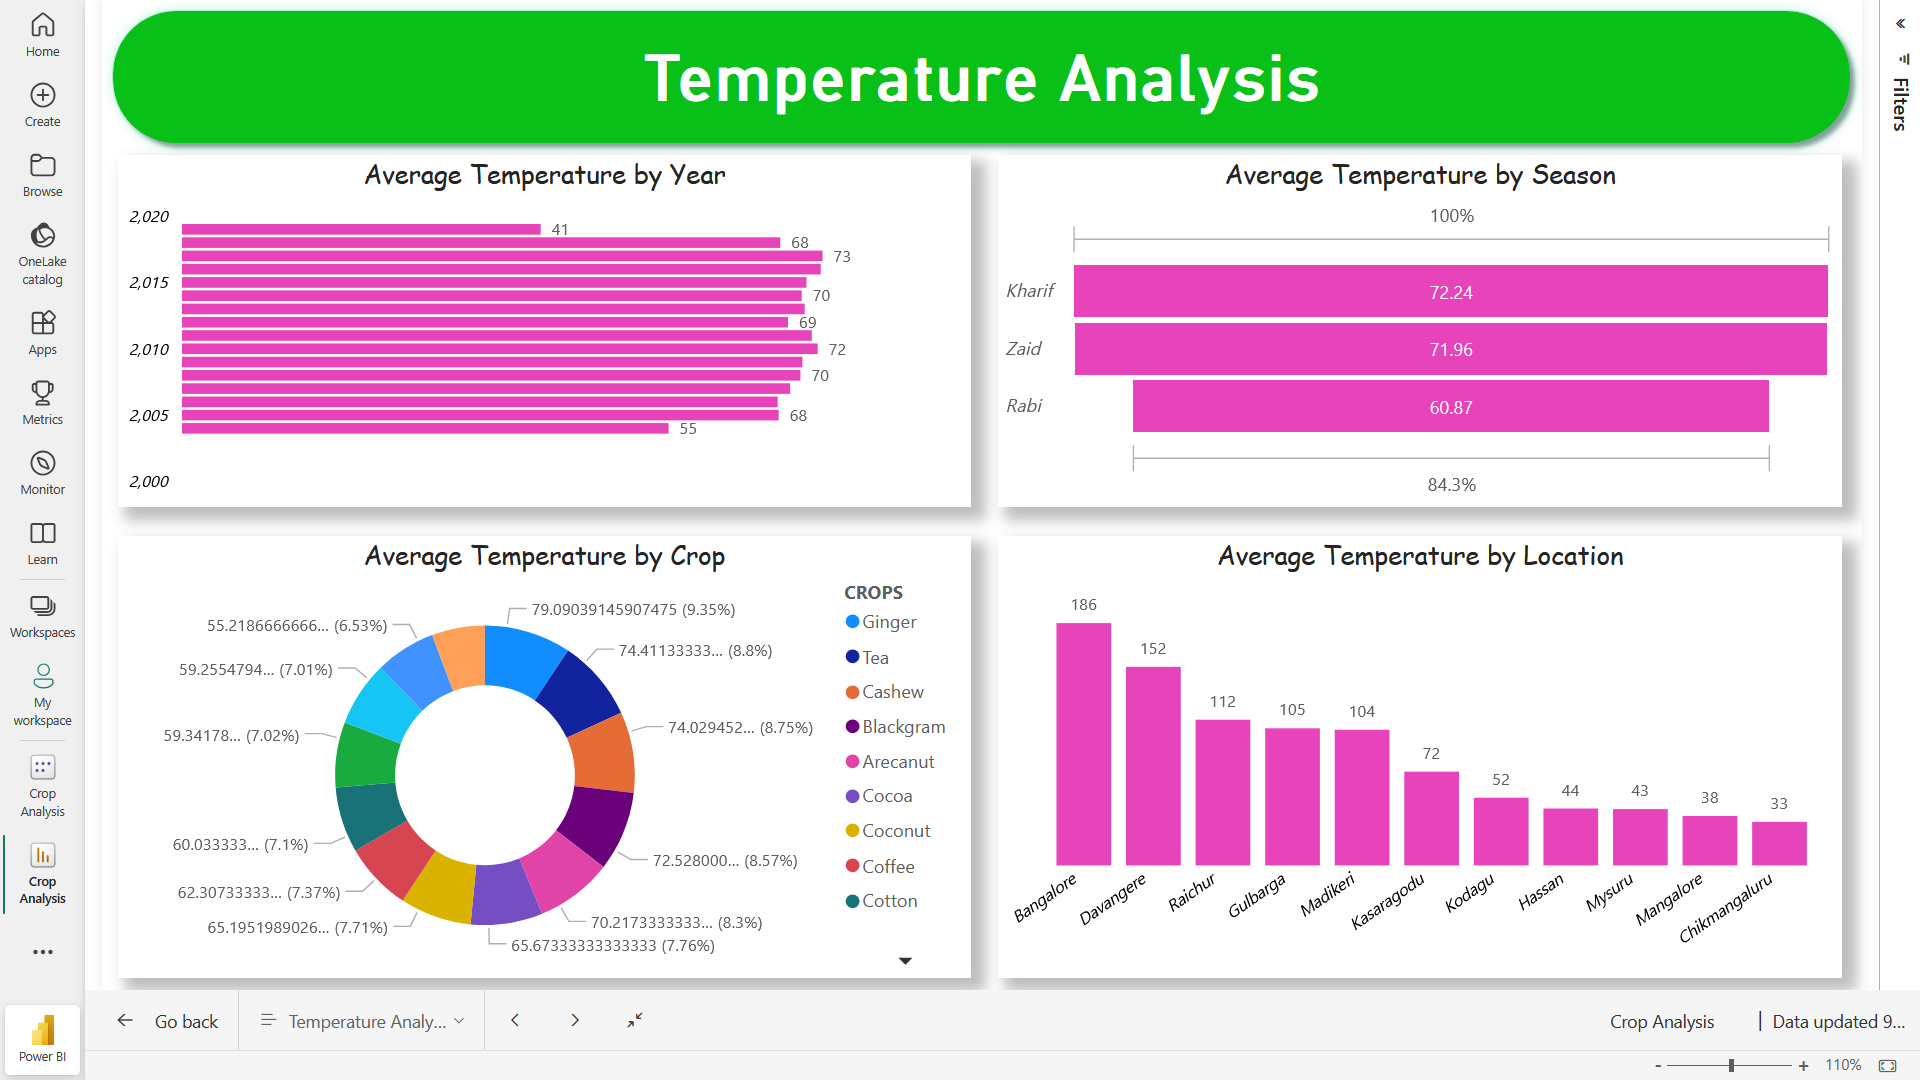

The dashboard page shown, as its layout file describes it:
{"tool":"powerbi","page":{"name":"Temperature Analysis","canvas":[1280,720],"ordinal":1},"visuals":[{"type":"shape","box":[0,0,1279.8,112.7],"z":0},{"type":"barChart","title":"Average Temperature by Year","fields":{"Category":["AGRICULTURE.YEAR"],"Y":["Avg(AGRICULTURE.TEMPERATURE)"]},"box":[11.4,112.7,620.2,255.7],"z":1000},{"type":"funnel","title":"Average Temperature by Season","fields":{"Category":["AGRICULTURE.SEASON"],"Y":["Avg(AGRICULTURE.TEMPERATURE)"]},"box":[651.9,112.7,613.9,255.7],"z":2000},{"type":"donutChart","title":"Average Temperature by Crop","fields":{"Category":["AGRICULTURE.CROPS"],"Y":["Avg(AGRICULTURE.TEMPERATURE)"]},"box":[11.4,389.9,620.2,321.5],"z":3000},{"type":"clusteredColumnChart","title":"Average Temperature by Location","fields":{"Category":["AGRICULTURE.LOCATION"],"Y":["Avg(AGRICULTURE.TEMPERATURE)"]},"box":[651.9,389.9,613.9,321.5],"z":4000}]}

Visuals, with their boxes on the page's 1280x720 design canvas (x1, y1, x2, y2). These are canvas units, not pixel positions in the 1920x1080 screenshot, which may show the page scaled, cropped or inside an application window:
shape: {"x1": 0, "y1": 0, "x2": 1280, "y2": 113}
"Average Temperature by Year" barChart: {"x1": 11, "y1": 113, "x2": 632, "y2": 368}
"Average Temperature by Season" funnel: {"x1": 652, "y1": 113, "x2": 1266, "y2": 368}
"Average Temperature by Crop" donutChart: {"x1": 11, "y1": 390, "x2": 632, "y2": 711}
"Average Temperature by Location" clusteredColumnChart: {"x1": 652, "y1": 390, "x2": 1266, "y2": 711}
